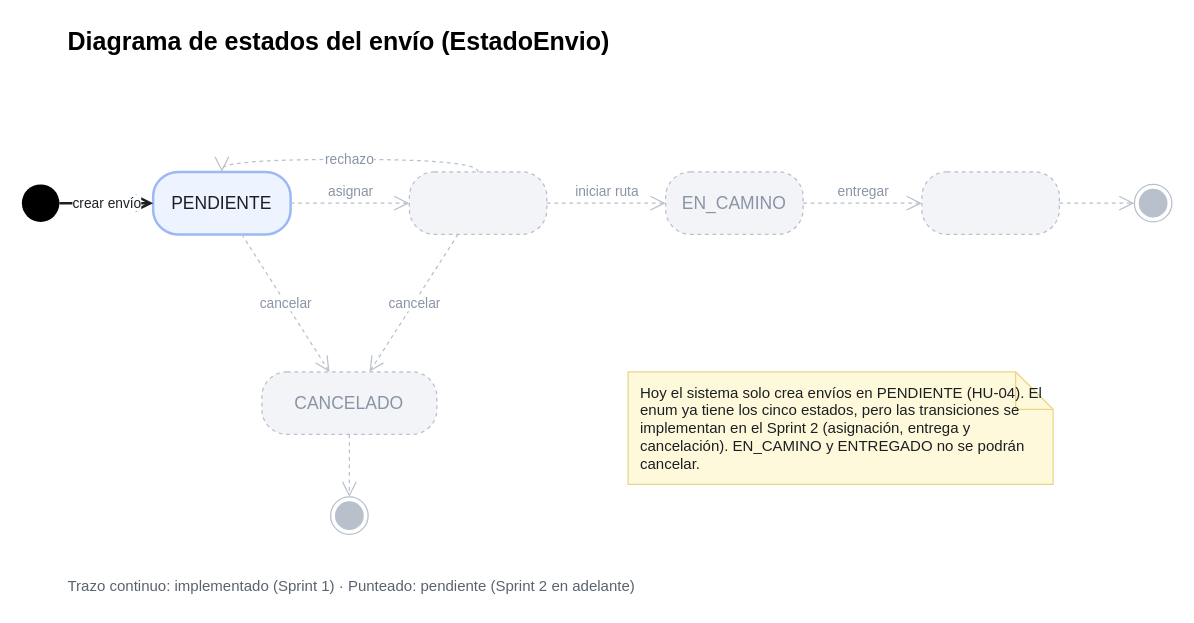
Some shapes in this 1194 by 623 pixel diagram are drawn without their labels. The centre of each missing label's shape, as x and y in pixels:
"ASIGNADO" goes at [477,202].
"ENTREGADO" goes at [990,202].
